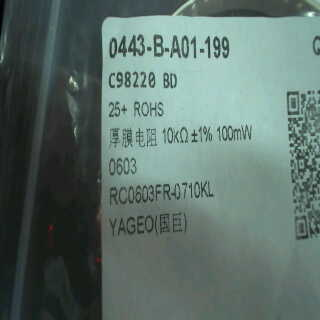10kR: (159, 122, 190, 148)
